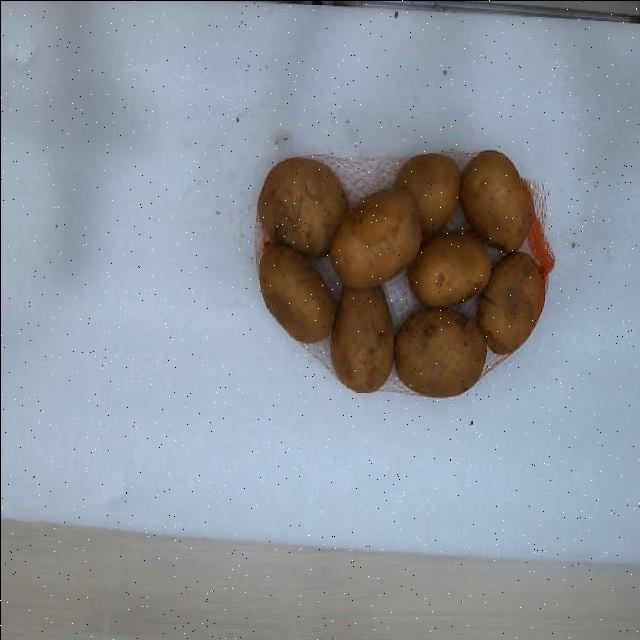potato: (256, 158, 346, 257), (329, 189, 421, 285), (394, 307, 486, 397), (258, 244, 335, 343), (459, 150, 532, 252), (476, 252, 544, 353), (330, 287, 392, 392), (408, 232, 490, 303), (392, 154, 459, 232)
